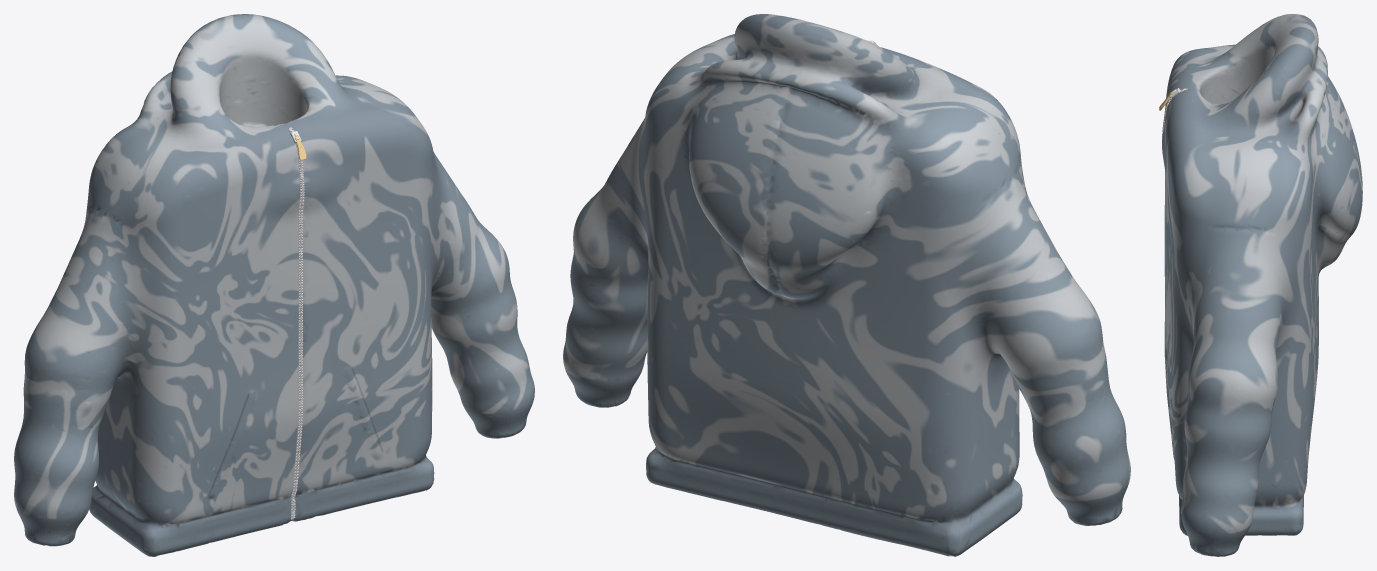
Rendered from ressac-silver-drift.glb.
The picture shows the model from 3 angles, left to right: view 1: azimuth 30°, elevation 25°; view 2: azimuth 150°, elevation 25°; view 3: azimuth 270°, elevation 25°; orthographic projection. The views are drawn at different scales.
Parts seen in each view (by area): view 1: KYMA Ressac — Silver Drift (visuel de présentation 3D); view 2: KYMA Ressac — Silver Drift (visuel de présentation 3D); view 3: KYMA Ressac — Silver Drift (visuel de présentation 3D).
Boxes of the visible parts, x1,y1,x2,y2 form: KYMA Ressac — Silver Drift (visuel de présentation 3D): [14, 14, 534, 556]; KYMA Ressac — Silver Drift (visuel de présentation 3D): [563, 14, 1130, 556]; KYMA Ressac — Silver Drift (visuel de présentation 3D): [1159, 14, 1362, 556].
Bounding box in the file's own units: 1.04 × 0.8959 × 0.3715.
3 materials, 1 textured.
